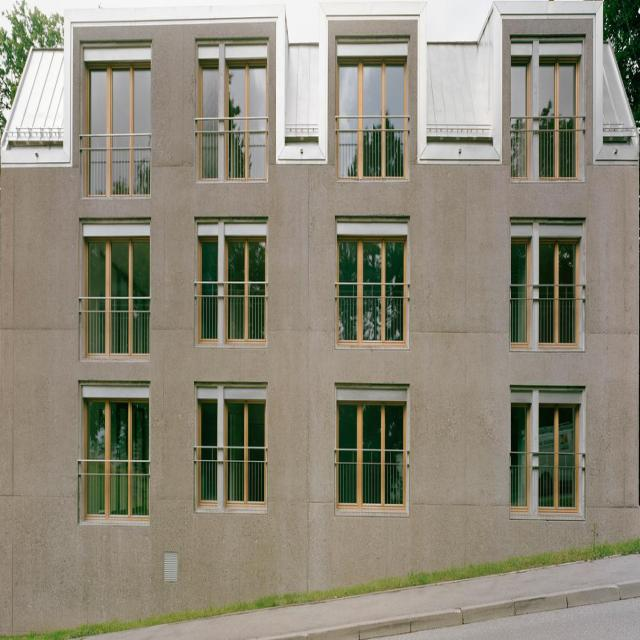Railing: (196, 281, 270, 346), (195, 117, 270, 181), (511, 115, 581, 182), (194, 445, 267, 508), (338, 115, 407, 181), (80, 298, 152, 358), (334, 449, 407, 508), (80, 136, 151, 196), (513, 452, 581, 514), (512, 284, 579, 346), (80, 460, 150, 519), (338, 298, 408, 344)
plant: (0, 2, 65, 138)
wall: (0, 1, 640, 634)
windows: (85, 71, 148, 138), (86, 400, 149, 462), (337, 243, 405, 299), (86, 245, 150, 298), (338, 403, 406, 452), (337, 69, 404, 117), (539, 61, 578, 117), (227, 67, 266, 118), (224, 241, 265, 284), (226, 406, 264, 449), (538, 413, 578, 453), (538, 246, 576, 286), (199, 66, 218, 119), (197, 403, 218, 447), (510, 244, 529, 286), (511, 409, 528, 453), (510, 68, 525, 115), (200, 242, 216, 284)
